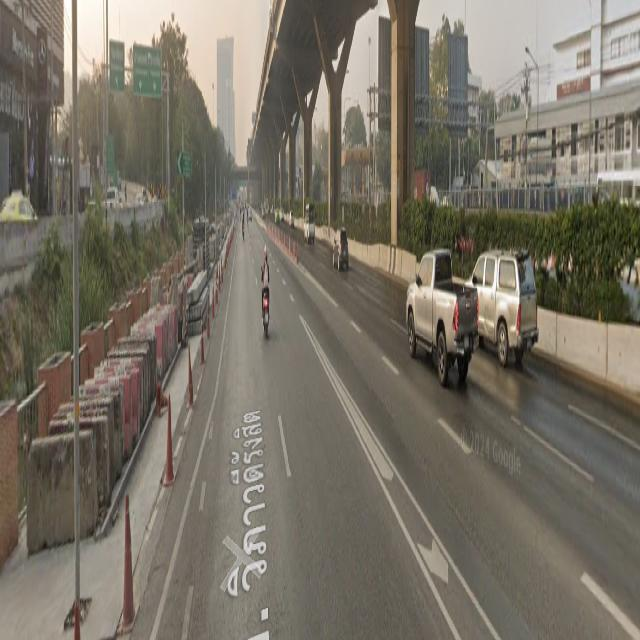fallen_object: (112, 476, 156, 640), (152, 332, 209, 421), (157, 385, 197, 484), (206, 246, 229, 331)
